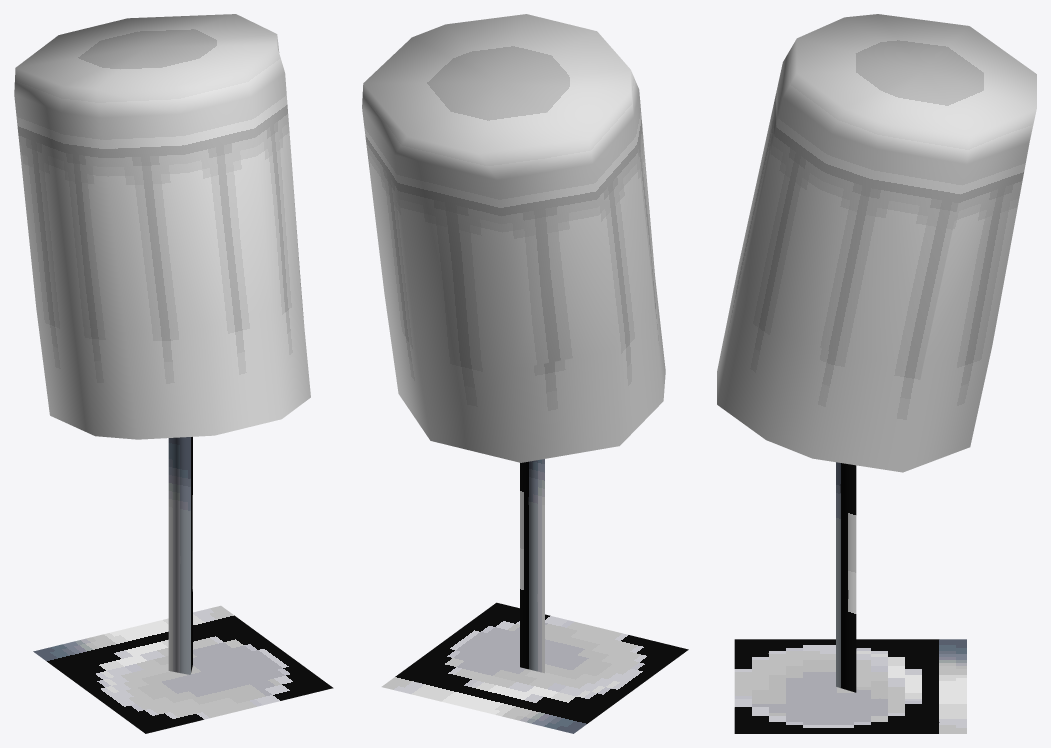
The picture shows the model from 3 angles, left to right: view 1: azimuth 30°, elevation 25°; view 2: azimuth 150°, elevation 25°; view 3: azimuth 270°, elevation 25°; orthographic projection. The views are drawn at different scales.
Visible parts, largest first — view 1: 2899head062_c; view 2: 2899head062_c; view 3: 2899head062_c.
Part boxes in pixels (<box>): 2899head062_c: <box>14,14,333,733</box>; 2899head062_c: <box>362,14,688,733</box>; 2899head062_c: <box>717,14,1036,733</box>.
Bounding box in the file's own units: 0.5547 × 1.45 × 0.6602.
Materials: 2 (2 with a texture image).
